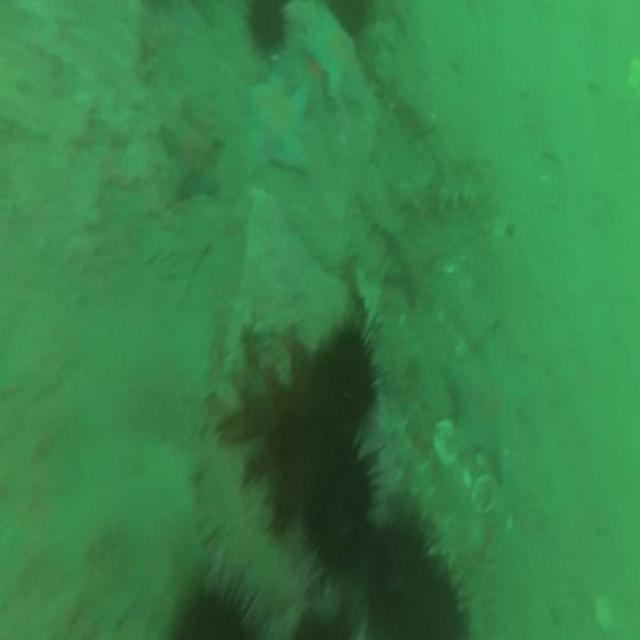echinus: (369, 526, 467, 638), (310, 450, 372, 569), (322, 335, 378, 422), (247, 3, 284, 54)
holothurian: (378, 52, 434, 142), (431, 163, 484, 218)
starfish: (445, 339, 527, 484), (235, 74, 308, 179), (302, 13, 362, 101), (160, 118, 221, 204), (380, 218, 434, 311)
